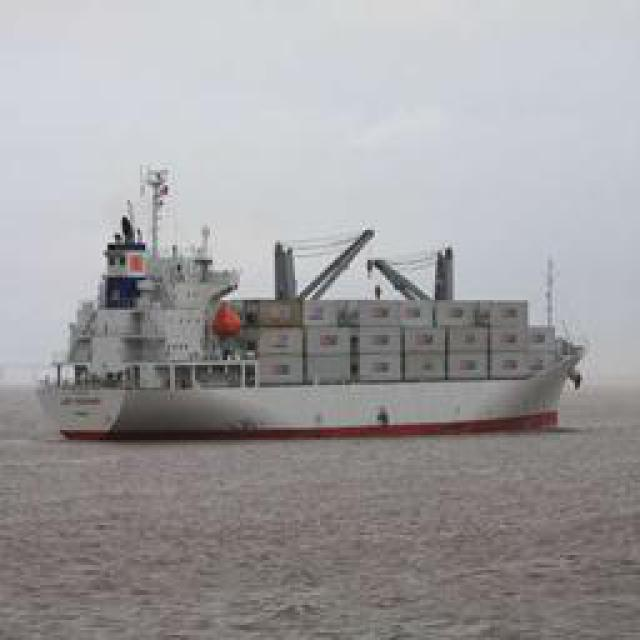Ship: (43, 211, 588, 444)
